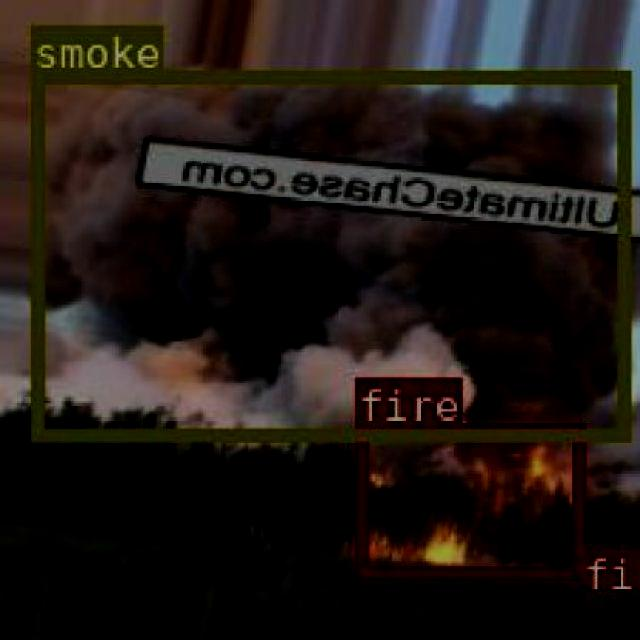fire: (354, 420, 583, 578), (580, 545, 634, 587)
smoke: (28, 70, 627, 438)
